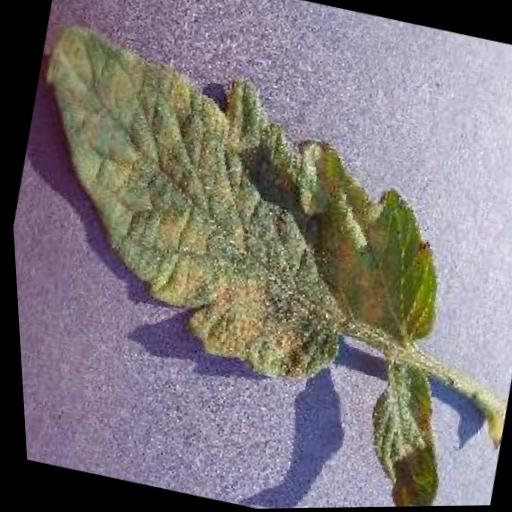Leaf Mold: (1, 15, 484, 414)
